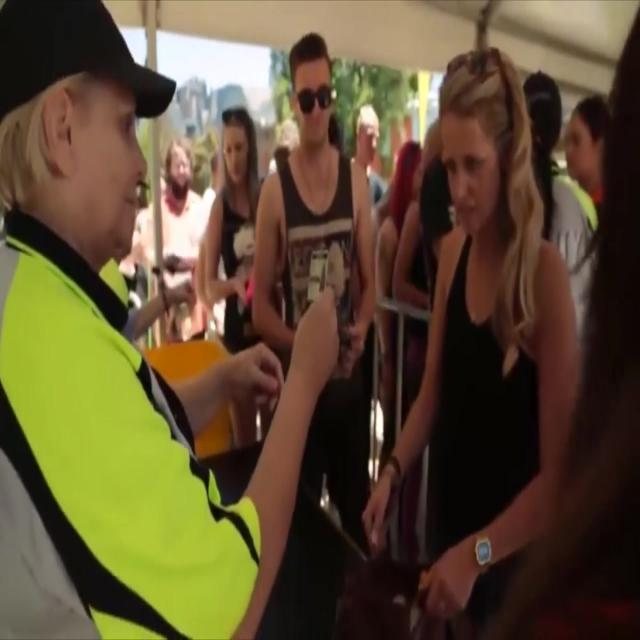Reflective-Jacket: (1, 249, 266, 638)
